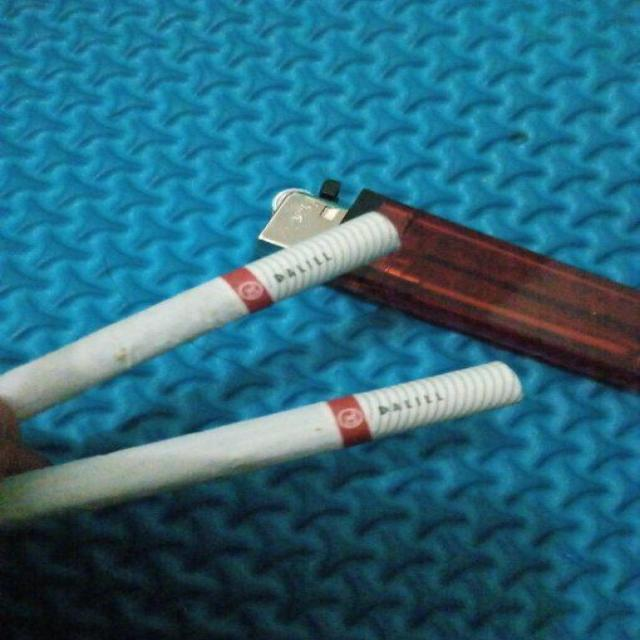rokok: (37, 358, 526, 508), (1, 202, 402, 370)
